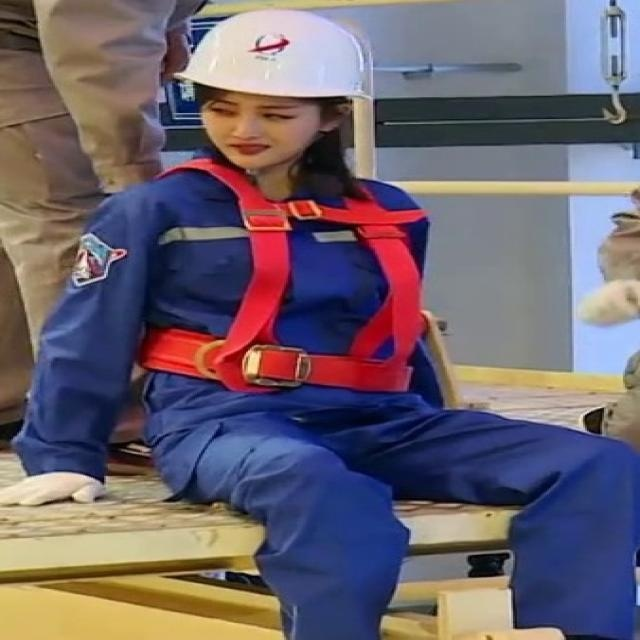Arnes_seguridad: (129, 145, 432, 395)
